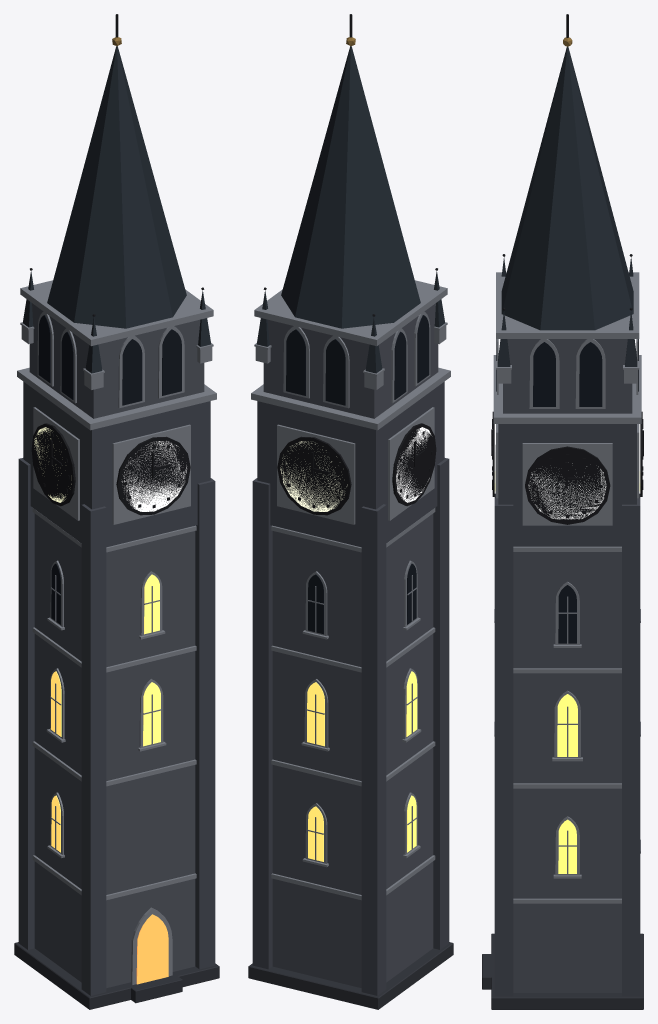
The model's file is gothic_clocktower.glb.
The picture shows the model from 3 angles, left to right: view 1: azimuth 30°, elevation 25°; view 2: azimuth 150°, elevation 25°; view 3: azimuth 270°, elevation 25°; orthographic projection.
Visible parts, largest first — view 1: gothic_clocktower; view 2: gothic_clocktower; view 3: gothic_clocktower.
Boxes of the visible parts, <box> form: gothic_clocktower: <box>14,14,219,1009</box>; gothic_clocktower: <box>248,14,453,1009</box>; gothic_clocktower: <box>482,14,643,1009</box>.
Size of the model in its own units: 6.6 by 46 by 7.
